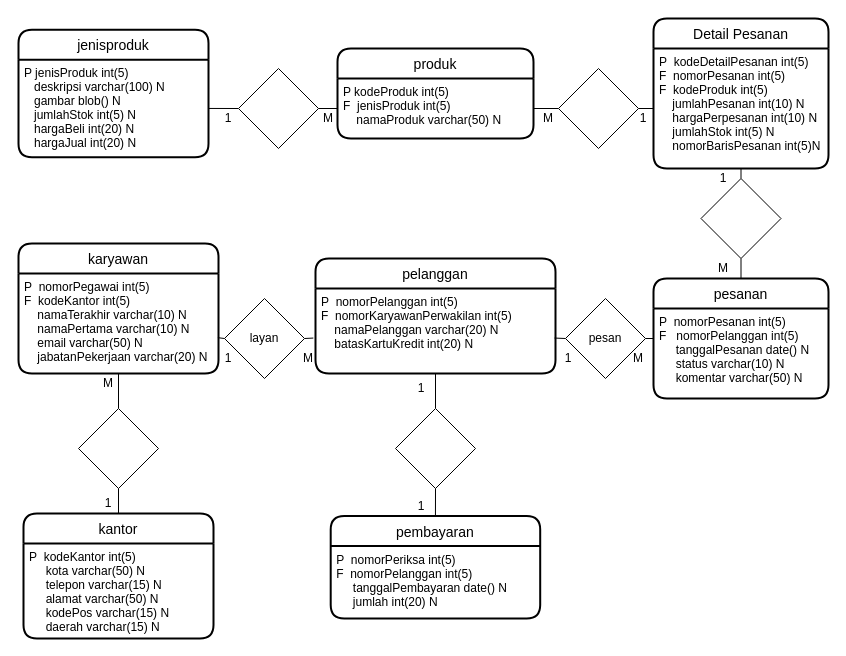
Some shapes in this 846 by 656 pixel diagram are drawn without their labels. The centre of each missing label's shape, as x and y in pixels:
"bayar" goes at pixel 435 448.
"cari" goes at pixel 598 108.
"catat" goes at pixel 740 218.
"detail" goes at pixel 278 108.
"tempat" goes at pixel 118 448.
